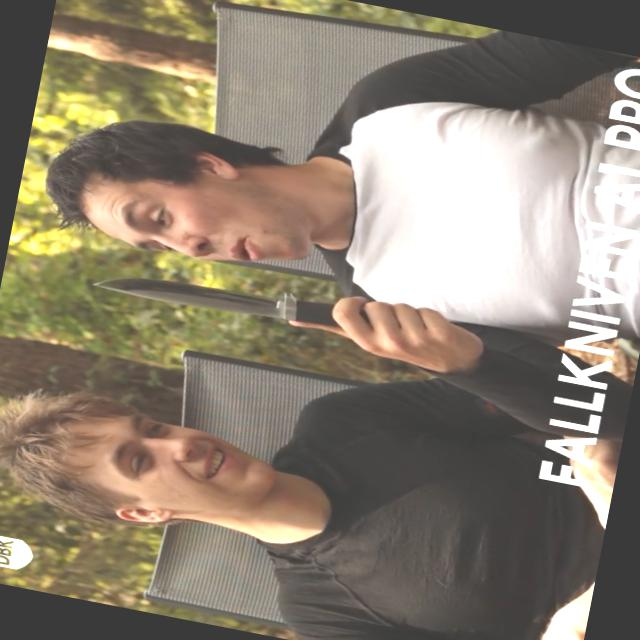knife: (75, 238, 437, 359)
